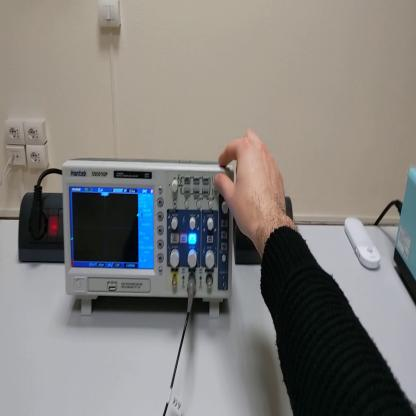hand: (216, 130, 288, 243)
oscilloscope: (64, 157, 236, 317)
socket: (17, 192, 64, 264)
welder station: (390, 168, 416, 302)
